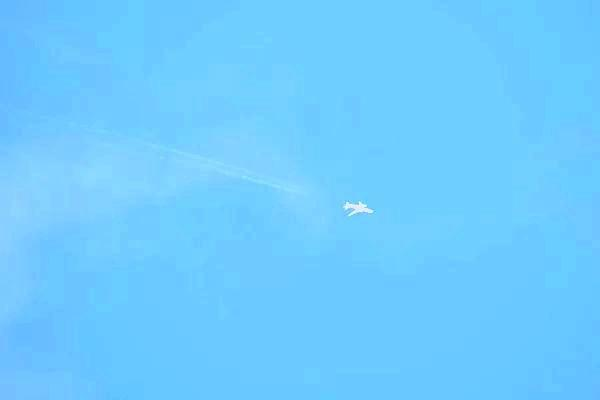Plane: (328, 192, 391, 224)
